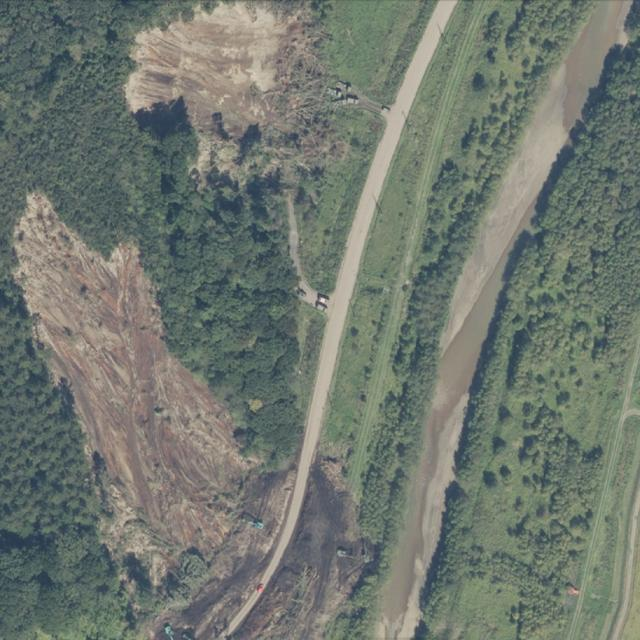landslide: (13, 195, 249, 552), (125, 1, 349, 189)
